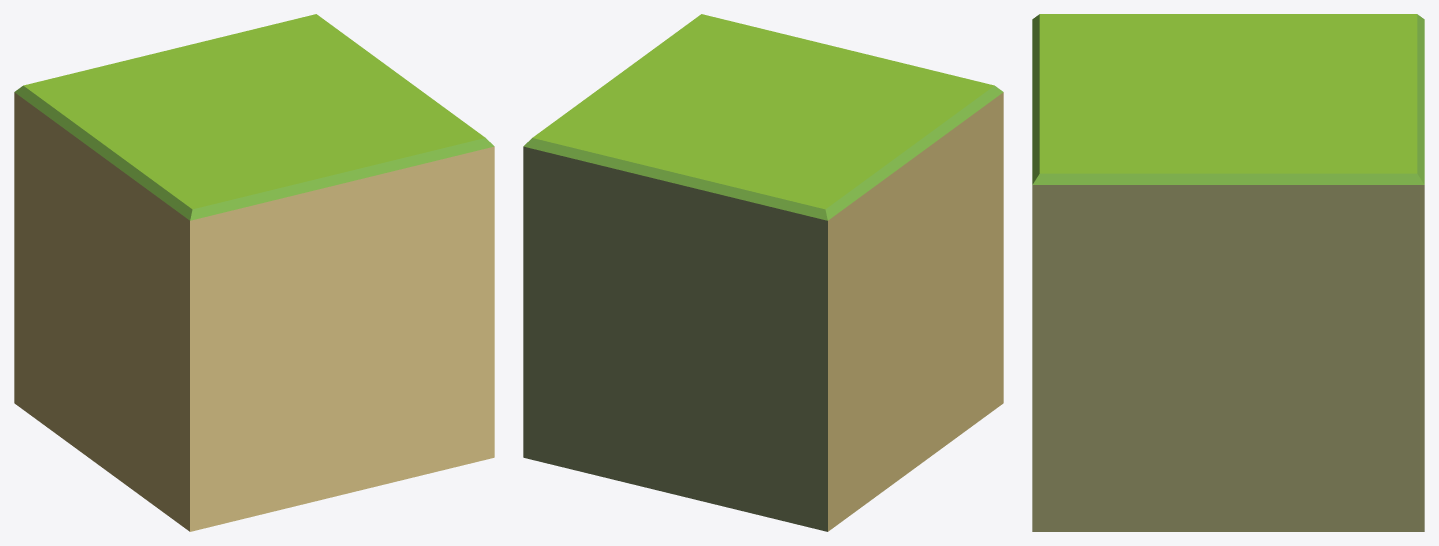
The model's file is grass cube.FBX.
3 renders of one model, left to right at view 1: azimuth 30°, elevation 25°; view 2: azimuth 150°, elevation 25°; view 3: azimuth 270°, elevation 25°, orthographic. The views are drawn at different scales.
Parts seen in each view (by area): view 1: grass cube; view 2: grass cube; view 3: grass cube.
Boxes of the visible parts, box(x1,y1,x2,y2) form: grass cube: box(14, 14, 494, 531); grass cube: box(523, 14, 1003, 531); grass cube: box(1032, 14, 1424, 531).
Bounding box in the file's own units: 100 × 100 × 100.
